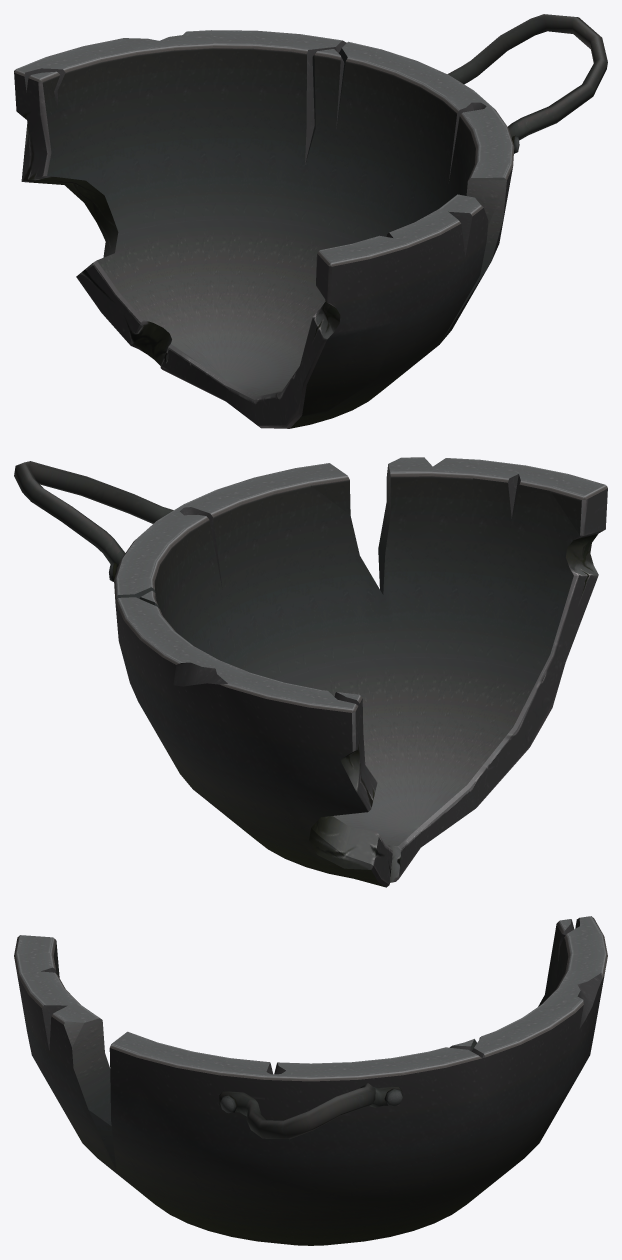
File: difuzhandouchangjing_guo.FBX
3 views of the same model, one above another, from view 1: azimuth 30°, elevation 25°; view 2: azimuth 150°, elevation 25°; view 3: azimuth 270°, elevation 25° (orthographic). The views are drawn at different scales.
Parts seen in each view (by area): view 1: difuzhandou_guo; view 2: difuzhandou_guo; view 3: difuzhandou_guo.
Part boxes in pixels (x1,y1,x2,y2): difuzhandou_guo: [14, 14, 607, 428]; difuzhandou_guo: [14, 457, 607, 887]; difuzhandou_guo: [14, 916, 607, 1245].
Size of the model in its own units: 1823 by 1100 by 1998.
